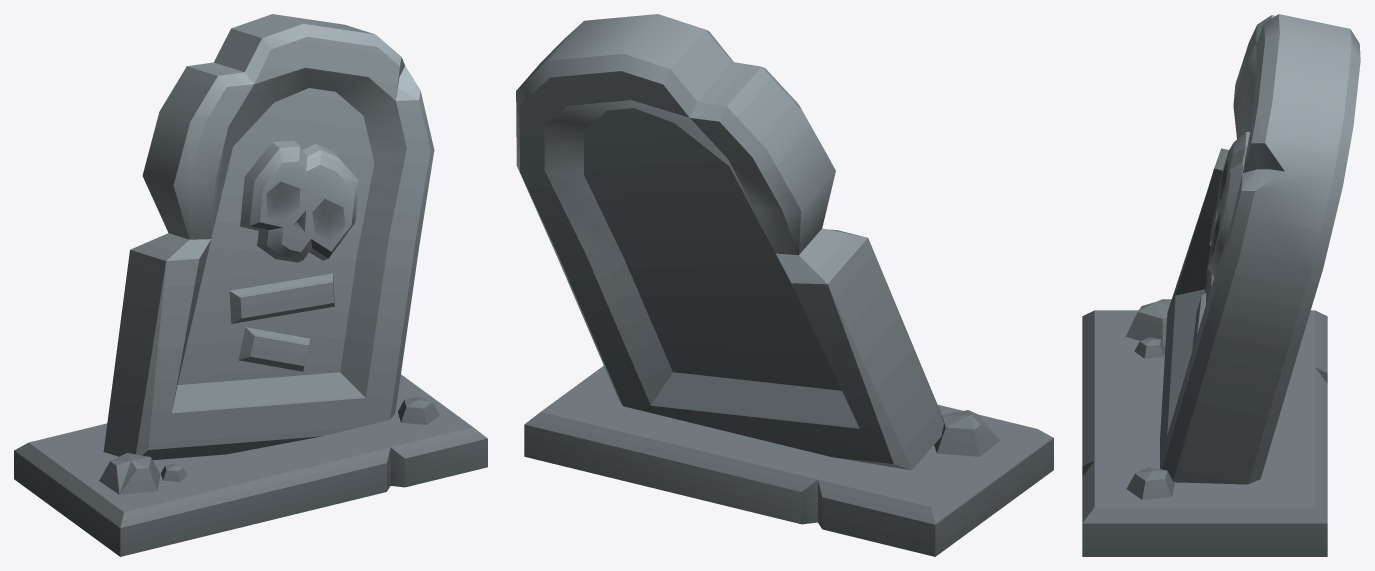
The model's file is hb_grave_destroyed.glb.
The picture shows the model from 3 angles, left to right: view 1: azimuth 30°, elevation 25°; view 2: azimuth 150°, elevation 25°; view 3: azimuth 270°, elevation 25°; orthographic projection. The views are drawn at different scales.
Visible parts, largest first — view 1: grave_A_destroyed; view 2: grave_A_destroyed; view 3: grave_A_destroyed.
Boxes of the visible parts, left/top/right/bottom form: grave_A_destroyed: left=14, top=14, right=487, bottom=556; grave_A_destroyed: left=516, top=14, right=1053, bottom=556; grave_A_destroyed: left=1082, top=14, right=1360, bottom=556.
Size of the model in its own units: 1.09 by 1.1 by 0.5929.
1 material, 1 textured.
